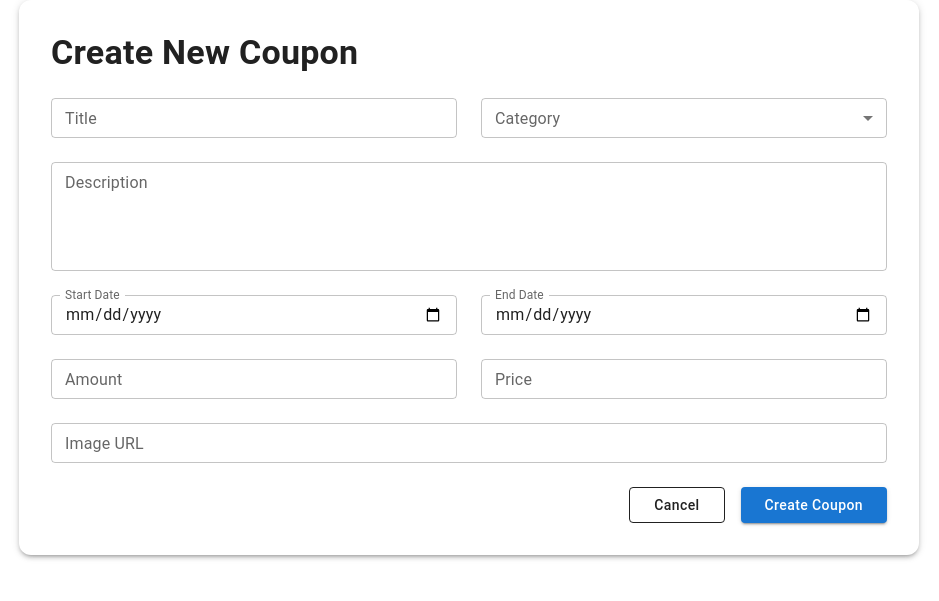
CouponForm › Title Field Validation › should clear error when valid title is entered
The width and height of the screenshot is (939, 601).
Click the field labelled "Title" at (254, 118), box [51,98,457,138]
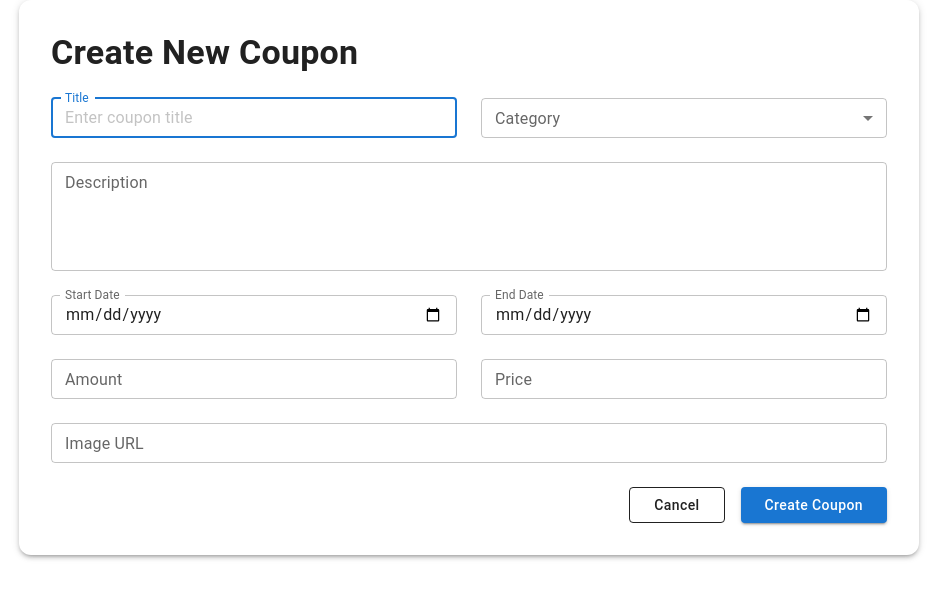
Press Tab
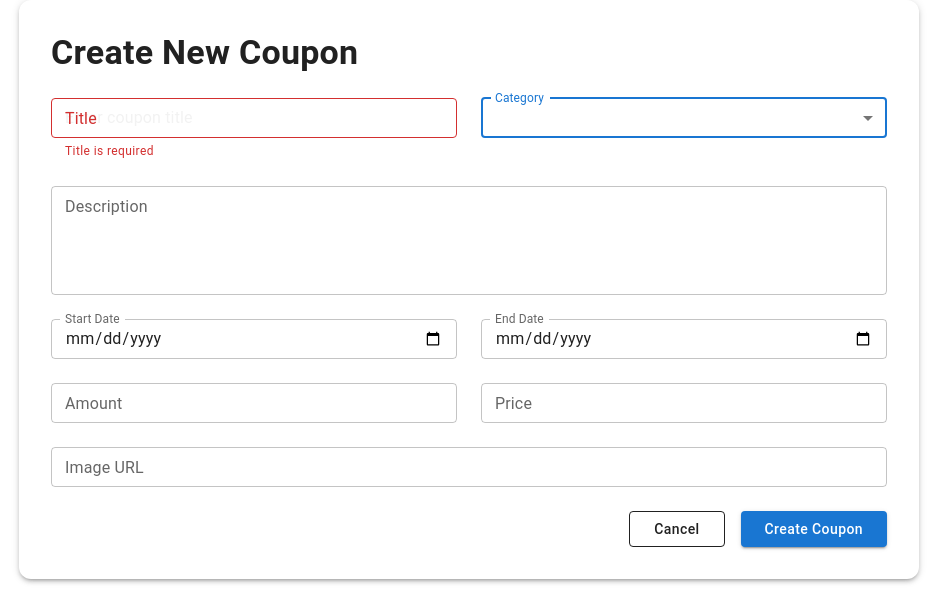
Expected: the text "Title is required" is shown, [65,144,154,158]
Type "Valid Title" into the field labelled "Title" at (254, 118), box [51,98,457,138]
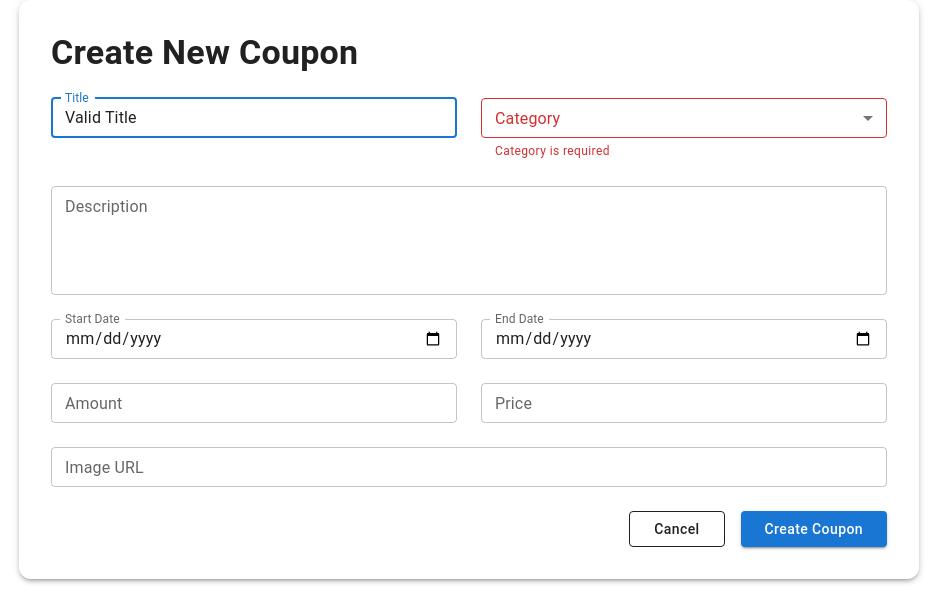
Expected: the text "Title is required" is gone
